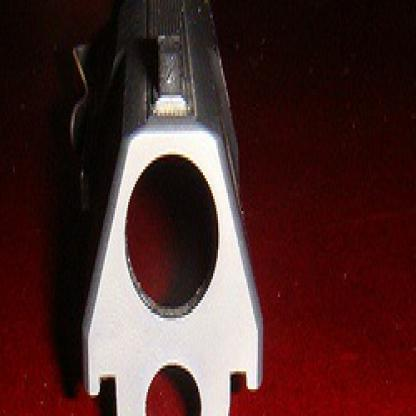gun: (61, 0, 268, 413)
